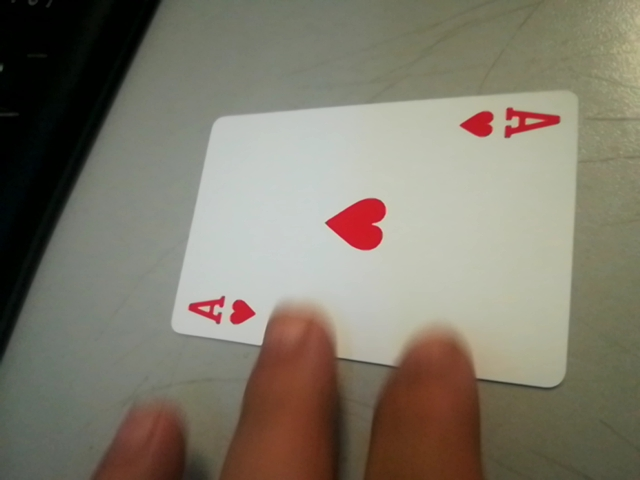hx a: (454, 102, 564, 143)
